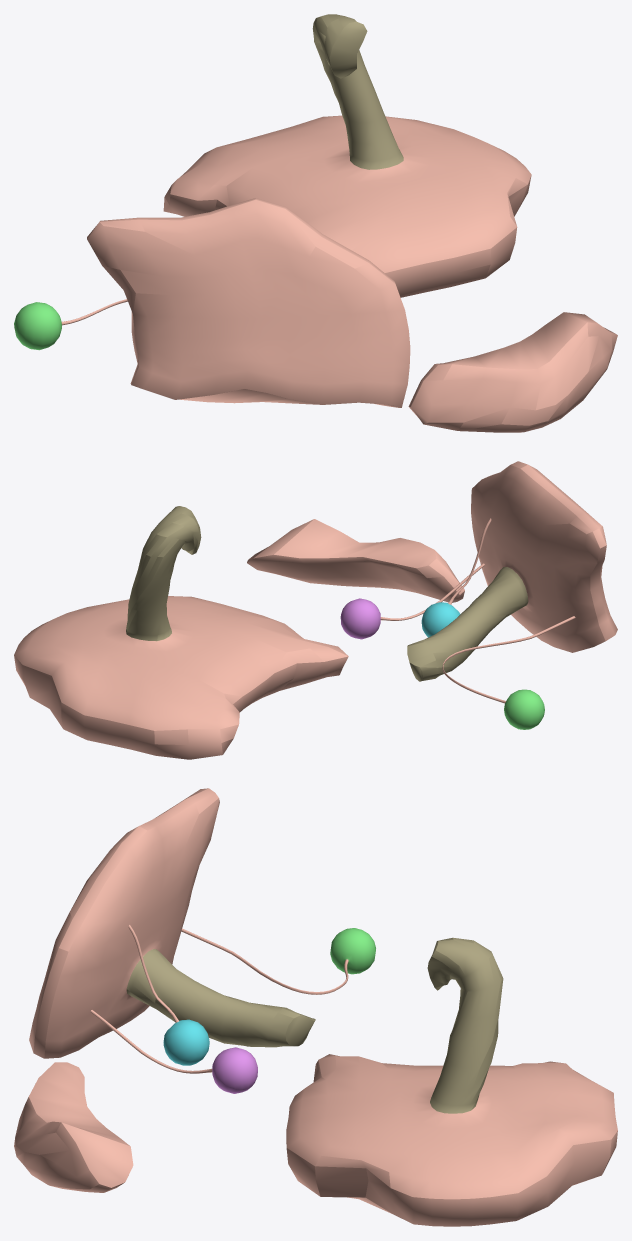
File: ArranhadorQuebrado.fbx
3 renders of one model, top to bottom at view 1: azimuth 30°, elevation 25°; view 2: azimuth 150°, elevation 25°; view 3: azimuth 270°, elevation 25°, orthographic. The views are drawn at different scales.
Visible parts, largest first — view 1: ScratcherQuebrado; view 2: ScratcherQuebrado; view 3: ScratcherQuebrado.
Boxes of the visible parts, x1=… form: ScratcherQuebrado: x1=14, y1=14, x2=617, y2=432; ScratcherQuebrado: x1=14, y1=461, x2=617, y2=759; ScratcherQuebrado: x1=14, y1=788, x2=617, y2=1226.
Size of the model in its own units: 177 by 74.21 by 173.
